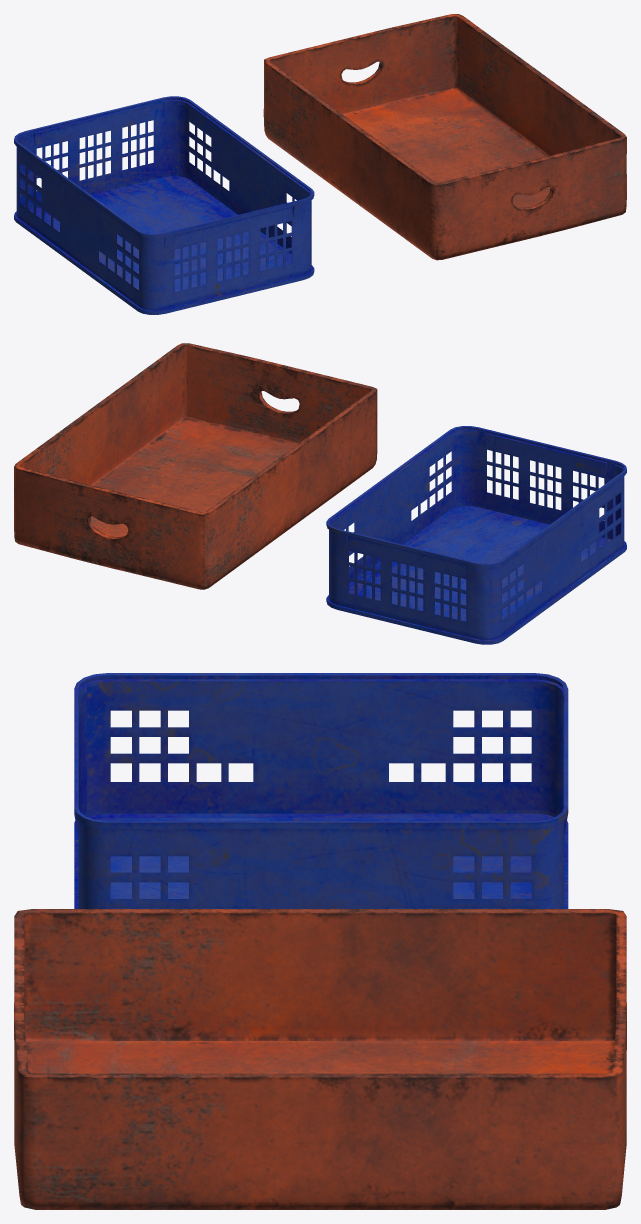
Rendered from worn_crates.glb.
The picture shows the model from 3 angles, top to bottom: view 1: azimuth 30°, elevation 25°; view 2: azimuth 150°, elevation 25°; view 3: azimuth 270°, elevation 25°; orthographic projection. The views are drawn at different scales.
Parts seen in each view (by area): view 1: SM_Crate_1, SM_Crate_2; view 2: SM_Crate_1, SM_Crate_2; view 3: SM_Crate_1, SM_Crate_2.
Boxes of the visible parts, bbox=[...] form: SM_Crate_1: bbox=[263, 14, 626, 260]; SM_Crate_2: bbox=[14, 96, 314, 314]; SM_Crate_1: bbox=[14, 343, 377, 589]; SM_Crate_2: bbox=[326, 426, 626, 644]; SM_Crate_1: bbox=[14, 909, 626, 1209]; SM_Crate_2: bbox=[74, 673, 568, 908].
Size of the model in its own units: 1.39 by 0.2273 by 0.8969.
Materials: 1 (1 with a texture image).
